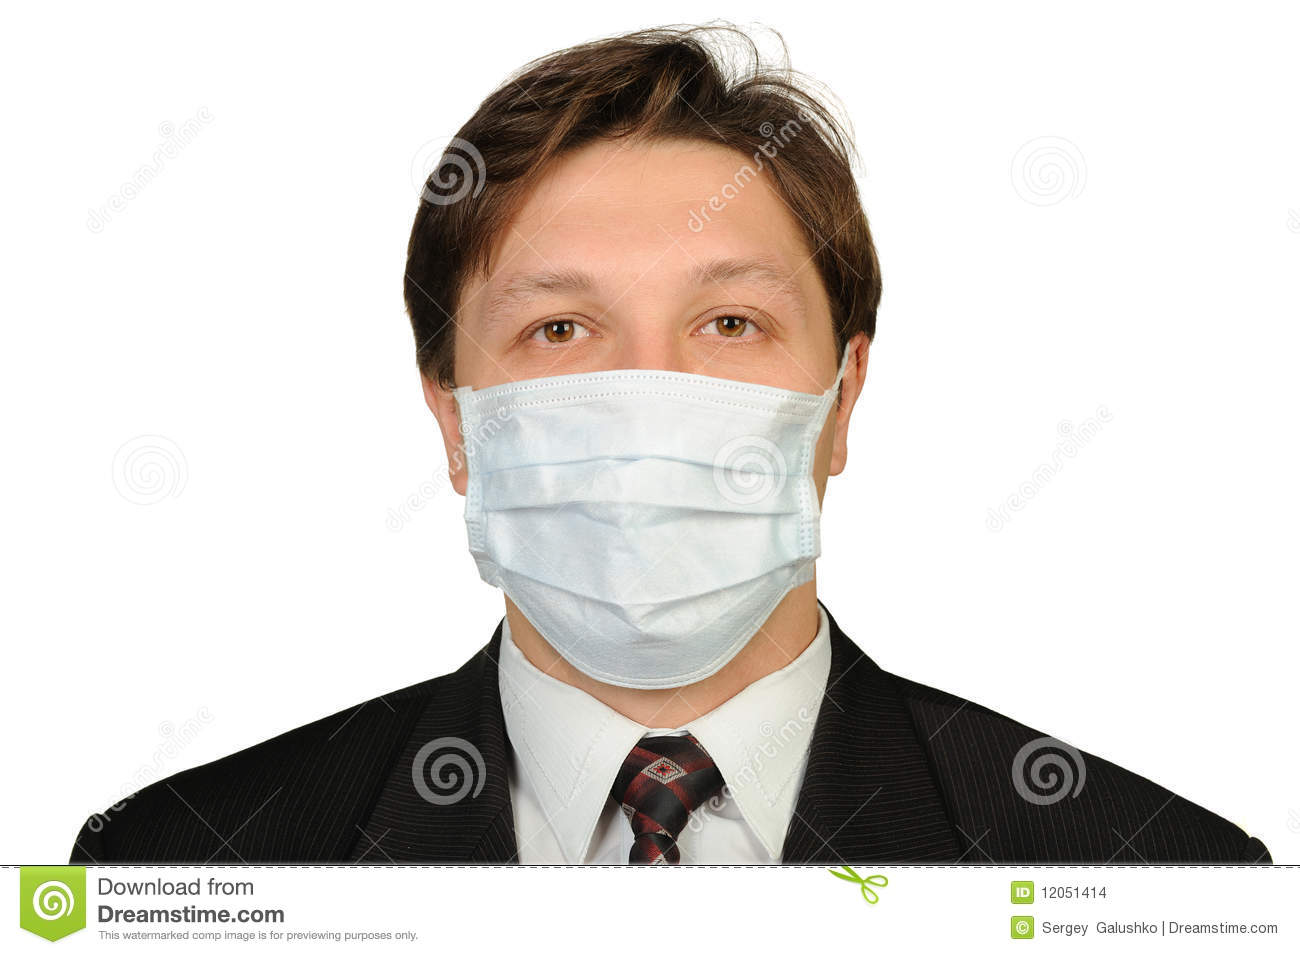mask: (463, 372, 824, 692)
